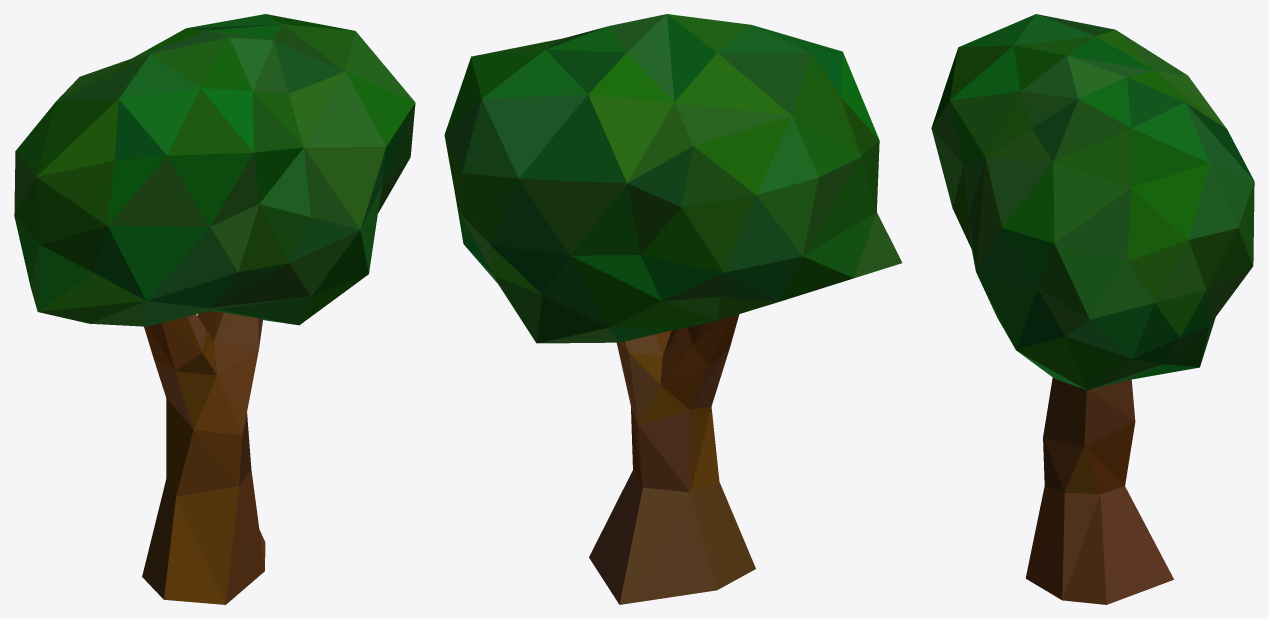
The model's file is TreeOak01.glb.
The picture shows the model from 3 angles, left to right: view 1: azimuth 30°, elevation 25°; view 2: azimuth 150°, elevation 25°; view 3: azimuth 270°, elevation 25°; orthographic projection. The views are drawn at different scales.
Parts seen in each view (by area): view 1: TreeOak01; view 2: TreeOak01; view 3: TreeOak01.
Part boxes in pixels (left/top/right/bottom): TreeOak01: left=14, top=14, right=415, bottom=604; TreeOak01: left=444, top=14, right=902, bottom=604; TreeOak01: left=931, top=14, right=1254, bottom=604.
Bounding box in the file's own units: 6.34 × 8.18 × 4.48.
